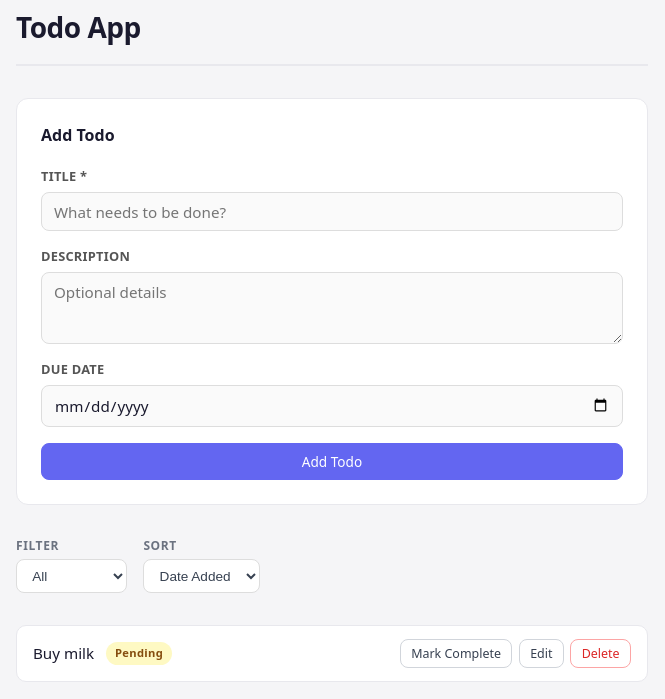
App › deletes a todo and stays on list view
Click the button "Delete" at [601, 654], box [570, 639, 631, 668]
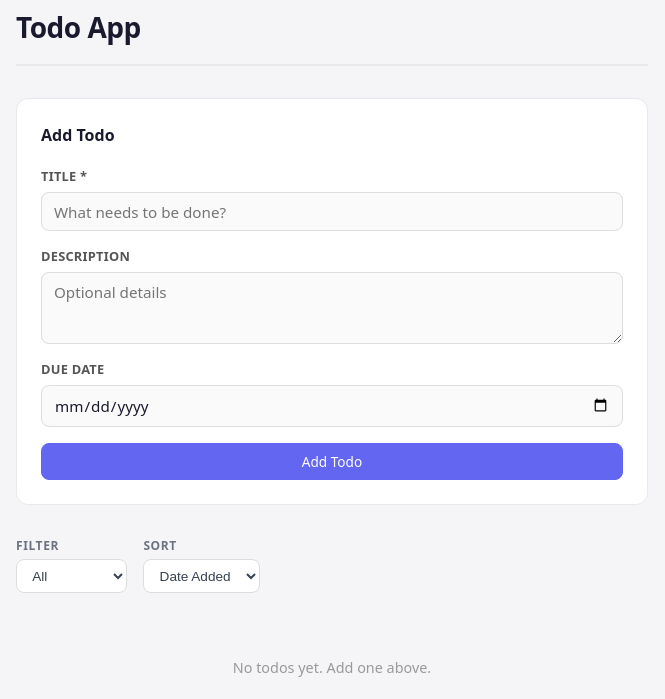
Now the text "No todos yet. Add one above." is shown, box [233, 658, 431, 677]
